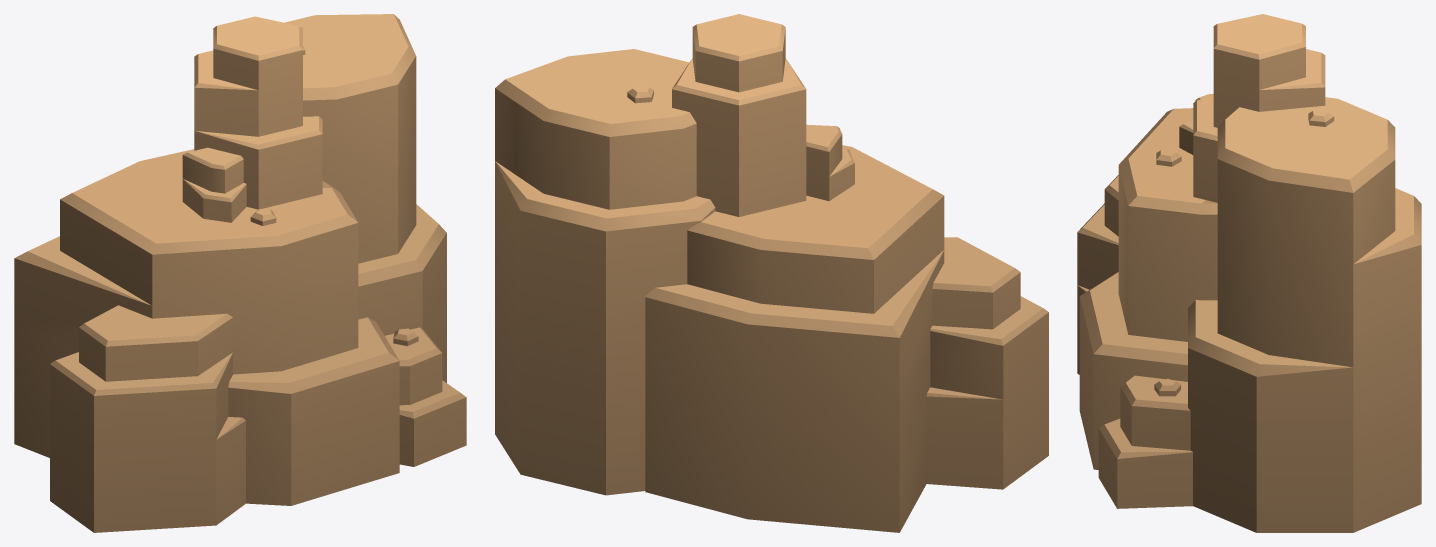
File: Rock_1_M_Sand.glb
3 views of the same model, side by side, from view 1: azimuth 30°, elevation 25°; view 2: azimuth 150°, elevation 25°; view 3: azimuth 270°, elevation 25° (orthographic). The views are drawn at different scales.
Visible parts, largest first — view 1: Rock_1_M_Color1; view 2: Rock_1_M_Color1; view 3: Rock_1_M_Color1.
Part boxes in pixels (left/top/right/bottom): Rock_1_M_Color1: left=14, top=14, right=466, bottom=532; Rock_1_M_Color1: left=495, top=14, right=1048, bottom=532; Rock_1_M_Color1: left=1077, top=14, right=1421, bottom=532.
Bounding box in the file's own units: 3.91 × 3.52 × 2.71.
Materials: 1 (1 with a texture image).
